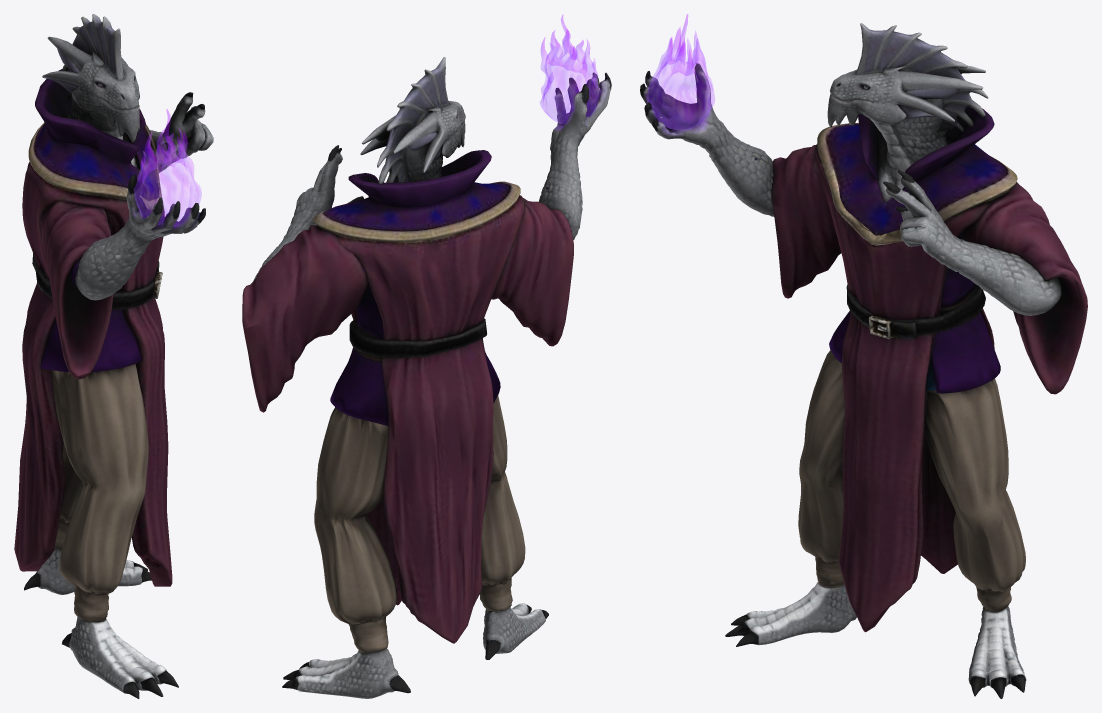
The model's file is MZ4250 - Silver Dragonborn Male Sorcerer_1.glb.
3 views of the same model, side by side, from view 1: azimuth 30°, elevation 25°; view 2: azimuth 150°, elevation 25°; view 3: azimuth 270°, elevation 25° (orthographic). The views are drawn at different scales.
Visible parts, largest first — view 1: Body.003; view 2: Body.003; view 3: Body.003.
Boxes of the visible parts, x1,y1,x2,y2 form: Body.003: (14, 14, 213, 698); Body.003: (242, 15, 611, 698); Body.003: (640, 14, 1087, 698).
Size of the model in its own units: 34.23 by 92.45 by 59.82.
Materials: 4 (4 with a texture image).
